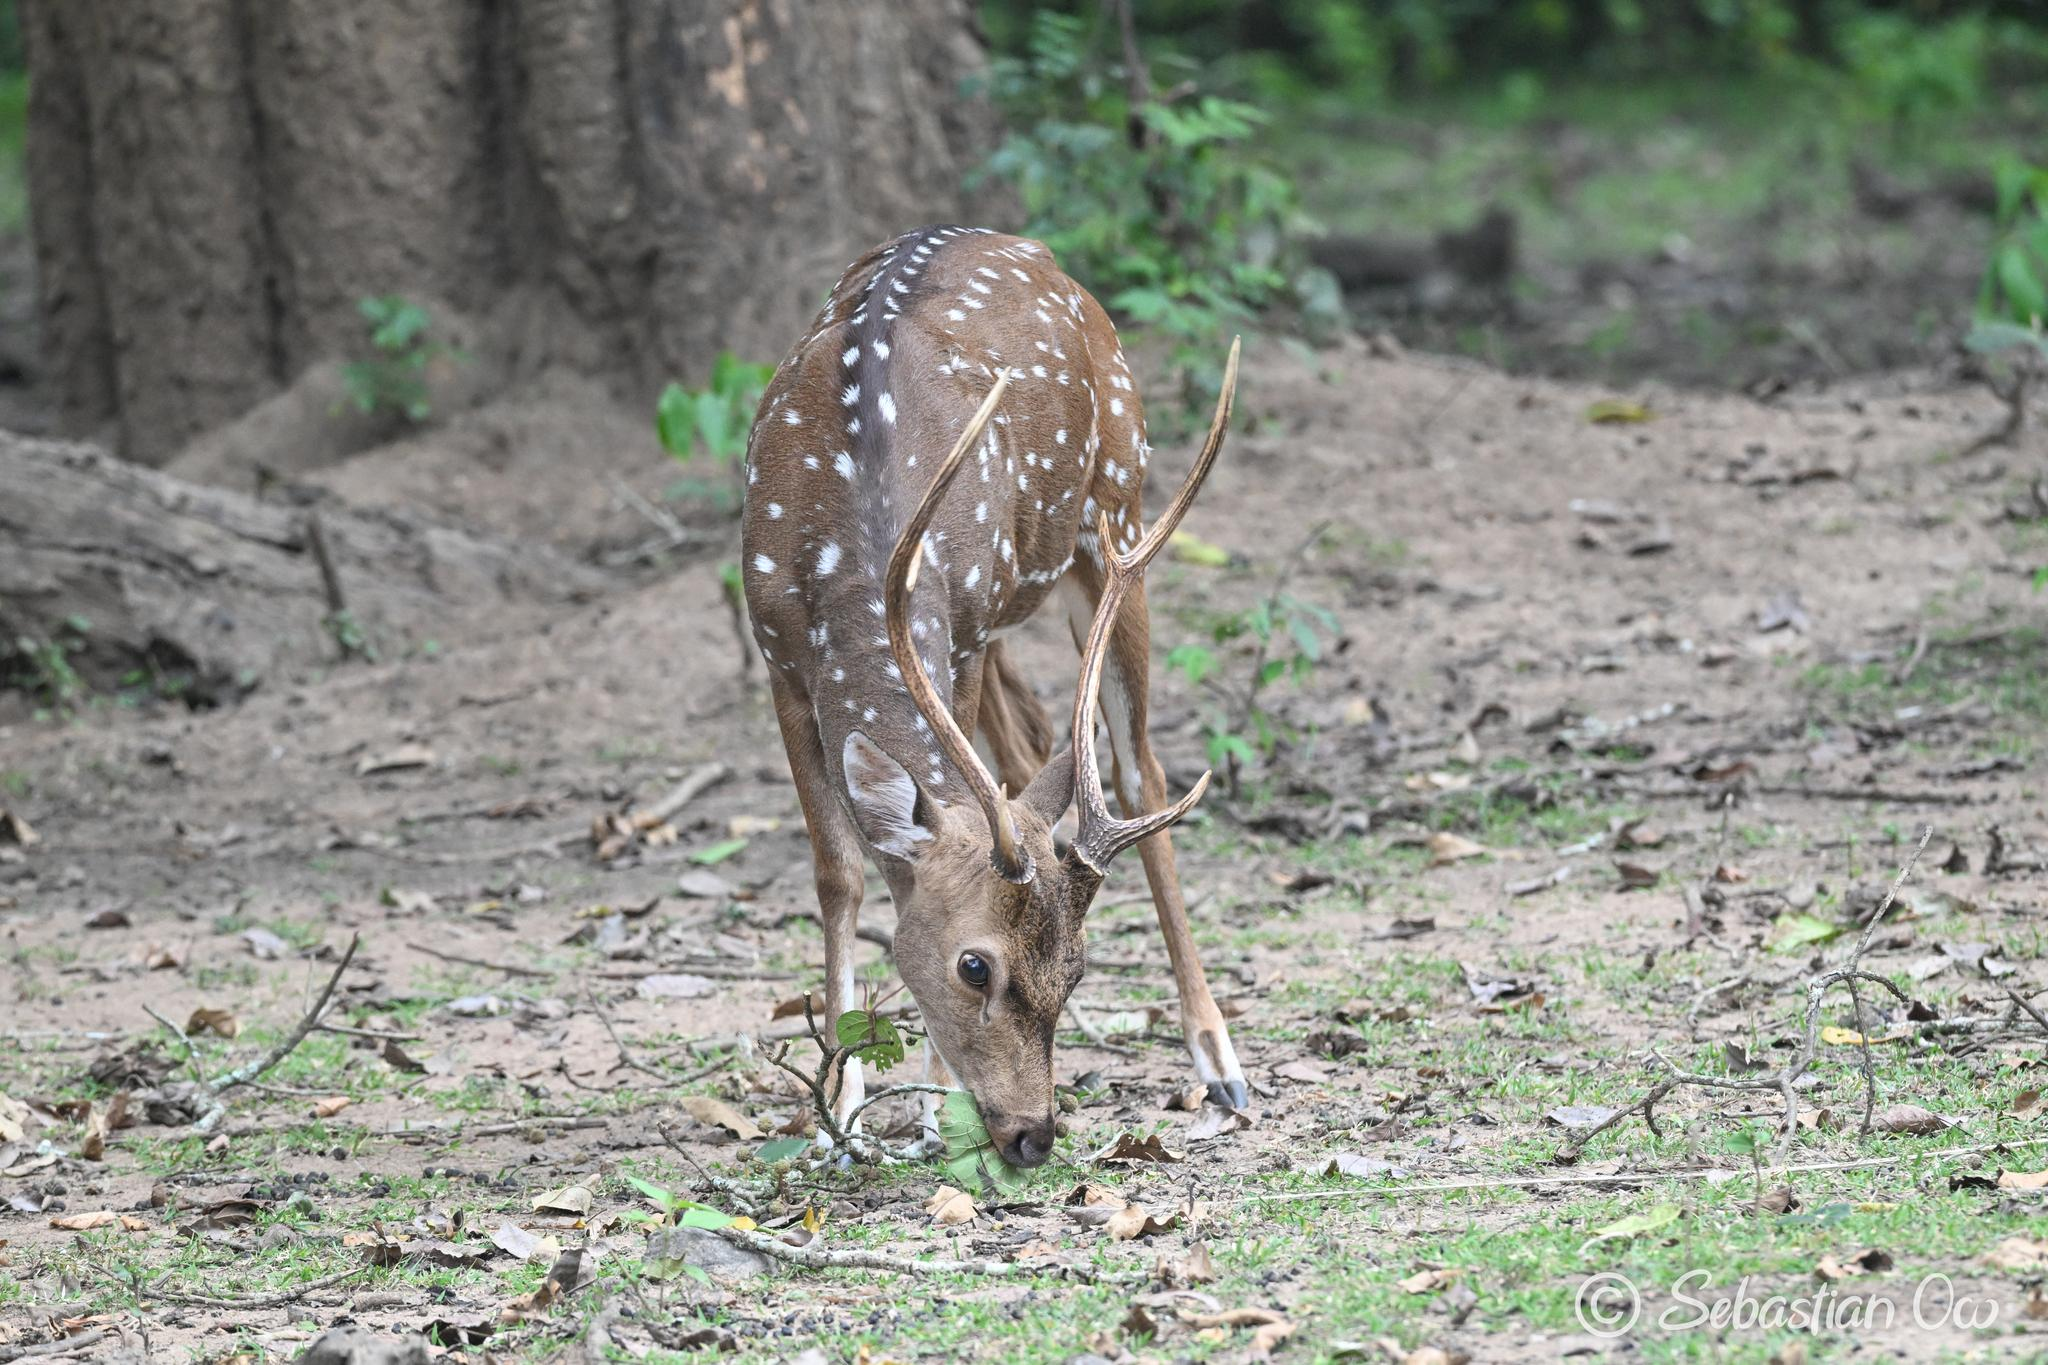Deer: (742, 227, 1247, 1167)
